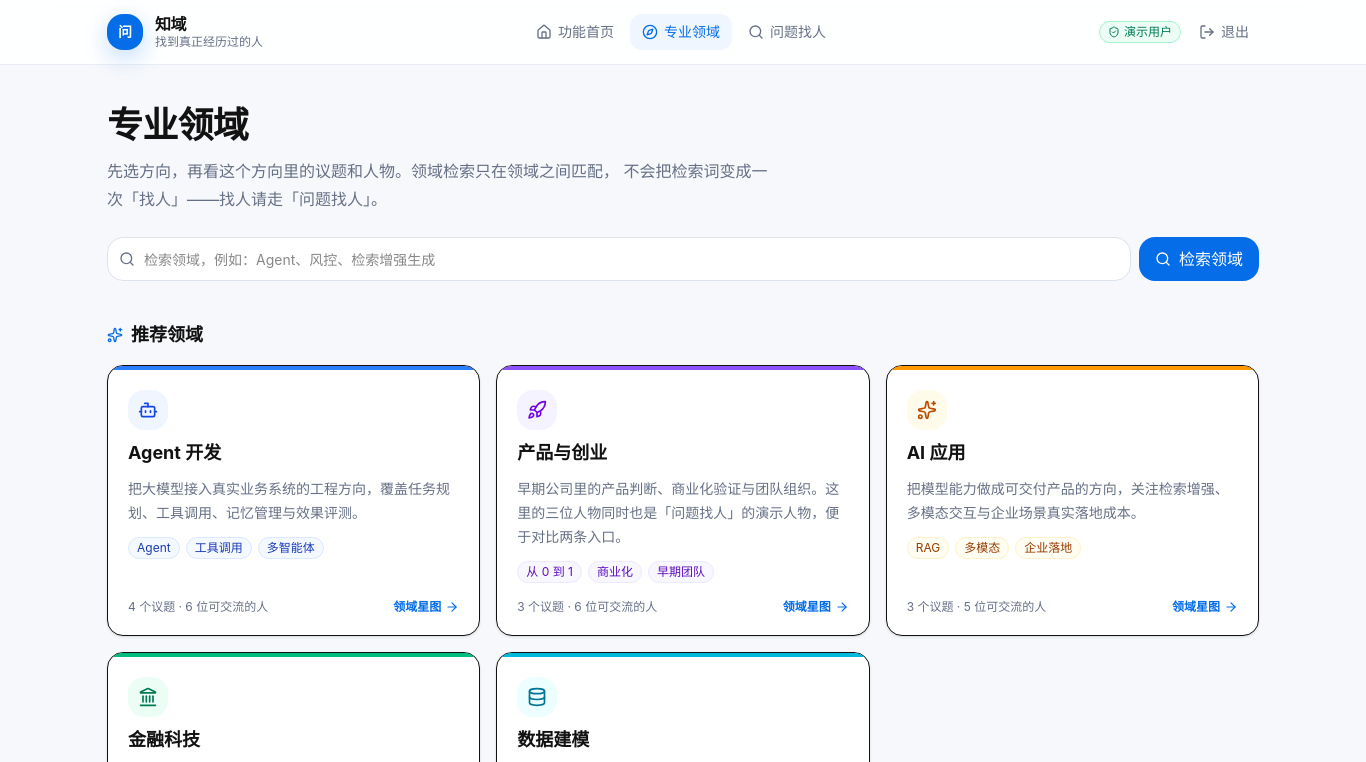
专业领域目录 › 空结果给出推荐领域与「去问题找人」，且不自动发起人物搜索
Expected: the heading "专业领域" is shown, [107,103,248,147]
Type "量子引力波投资" into the search field named "检索专业领域" at (619, 259), box [107,237,1131,281]
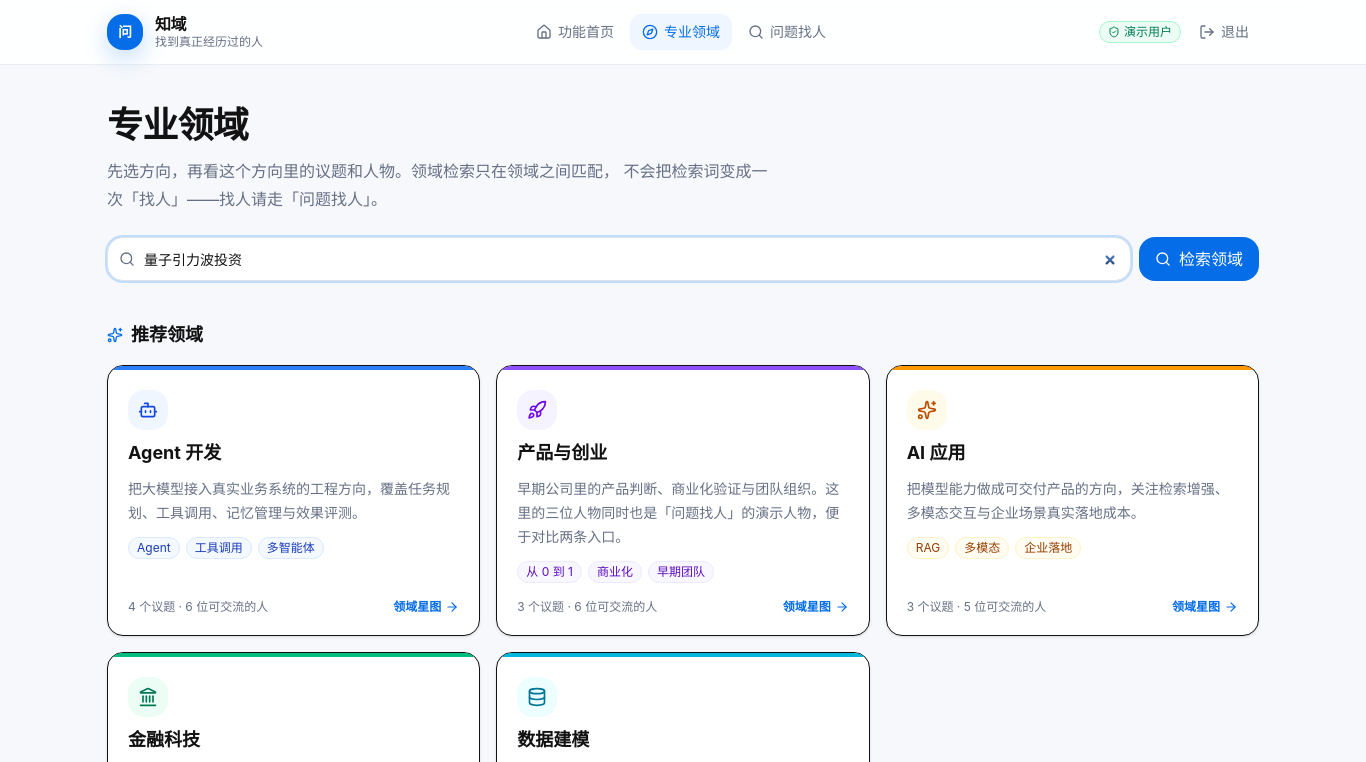
Click the button "检索领域" at (1199, 259), box [1139,237,1259,281]
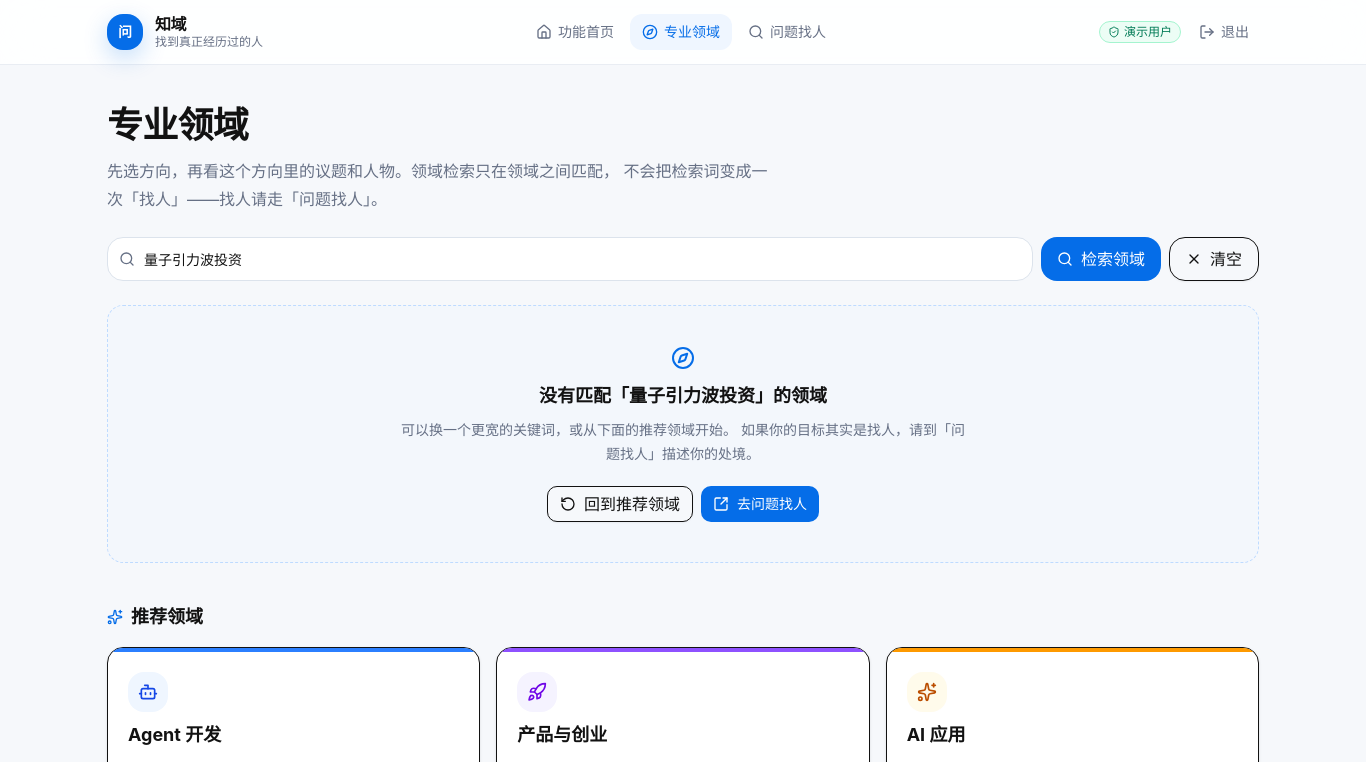
Expected: the heading "推荐领域" is shown, [107,603,203,631]
Expected: the heading "没有匹配「量子引力波投资」的领域" is shown, [539,385,827,406]
